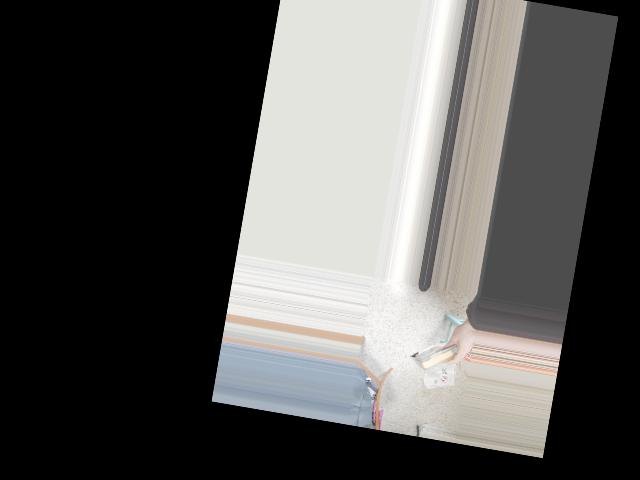cheese: (407, 332, 470, 378)
